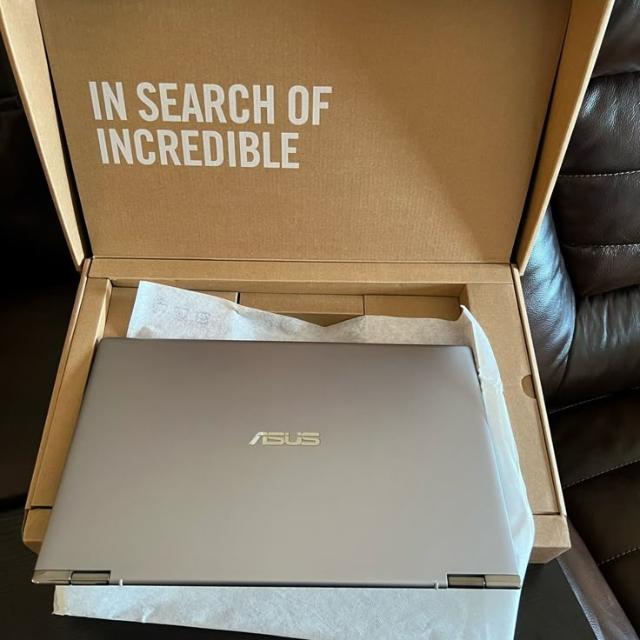laptop: (32, 336, 520, 596)
